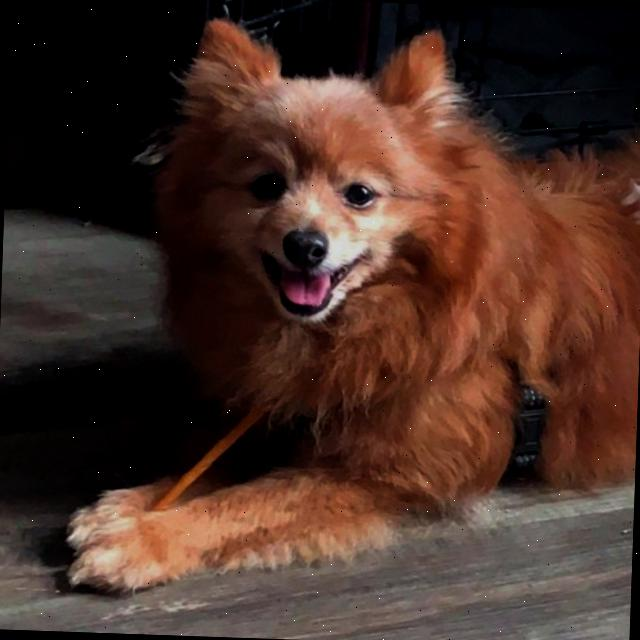pomeranian_dog: (142, 11, 493, 366)
